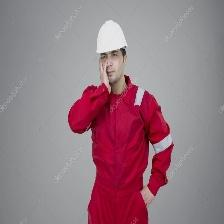Person: (66, 19, 177, 224)
helmet: (97, 21, 126, 53)
